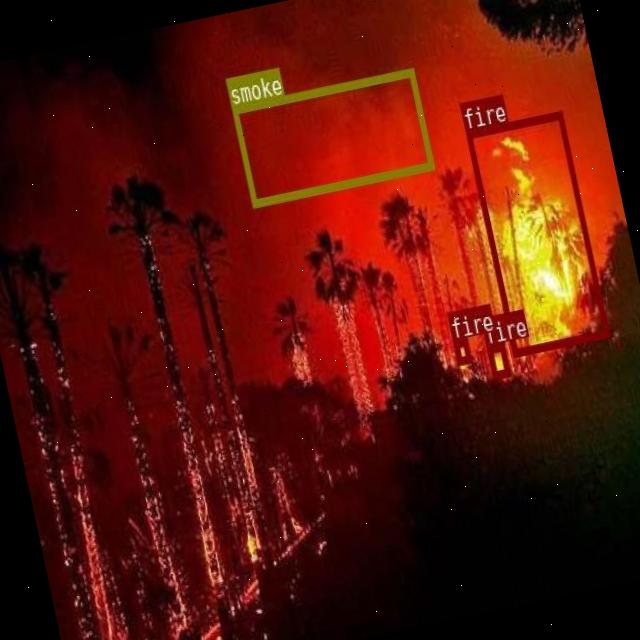fire: (464, 110, 608, 356), (485, 342, 509, 378), (452, 336, 471, 364)
smoke: (230, 66, 432, 206)
